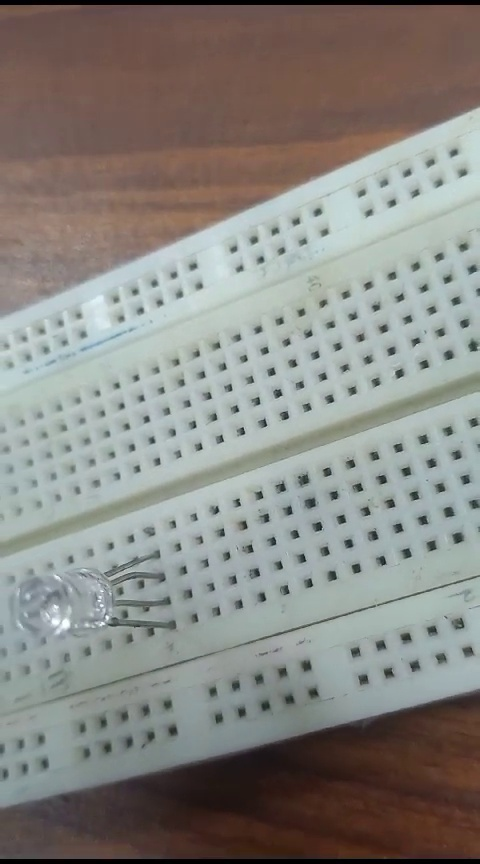LED: (19, 556, 180, 637)
